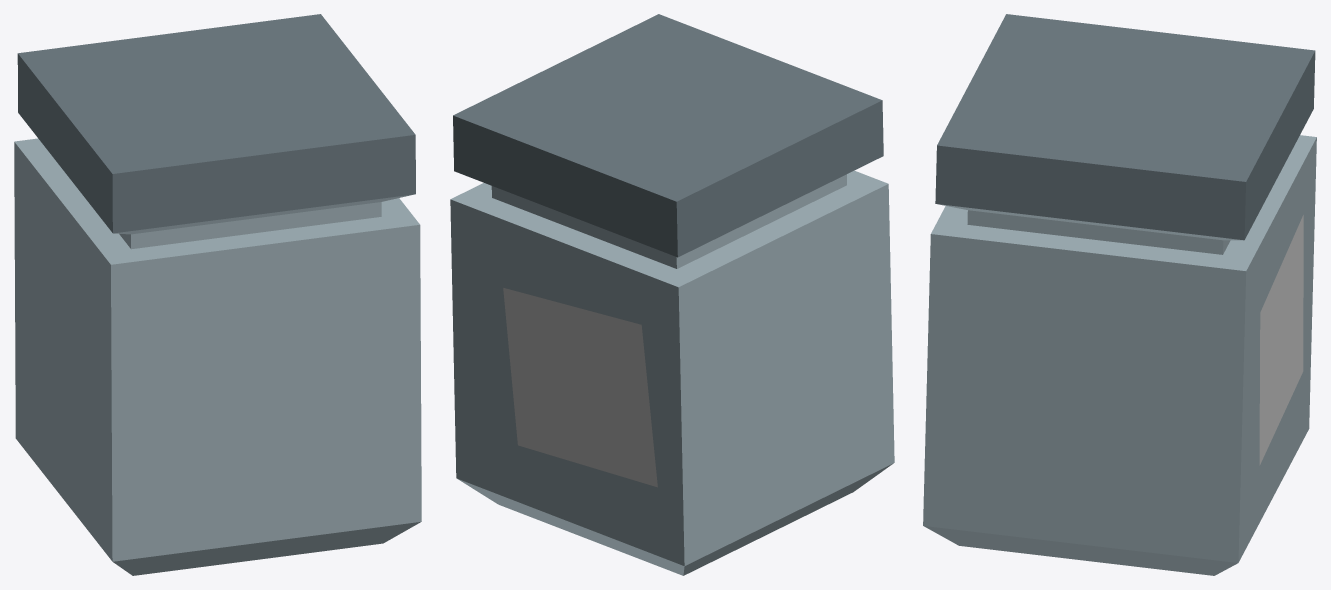
File: square_container.glb
3 views of the same model, side by side, from view 1: azimuth 30°, elevation 25°; view 2: azimuth 150°, elevation 25°; view 3: azimuth 270°, elevation 25° (orthographic). The views are drawn at different scales.
Visible parts, largest first — view 1: square_container; view 2: square_container; view 3: square_container.
Boxes of the visible parts, bbox=[...] form: square_container: bbox=[14, 14, 421, 575]; square_container: bbox=[450, 14, 894, 575]; square_container: bbox=[923, 14, 1316, 575].
Bounding box in the file's own units: 0.1374 × 0.1628 × 0.1392.
